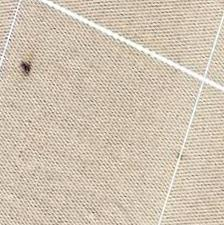stain: (19, 56, 35, 79)
